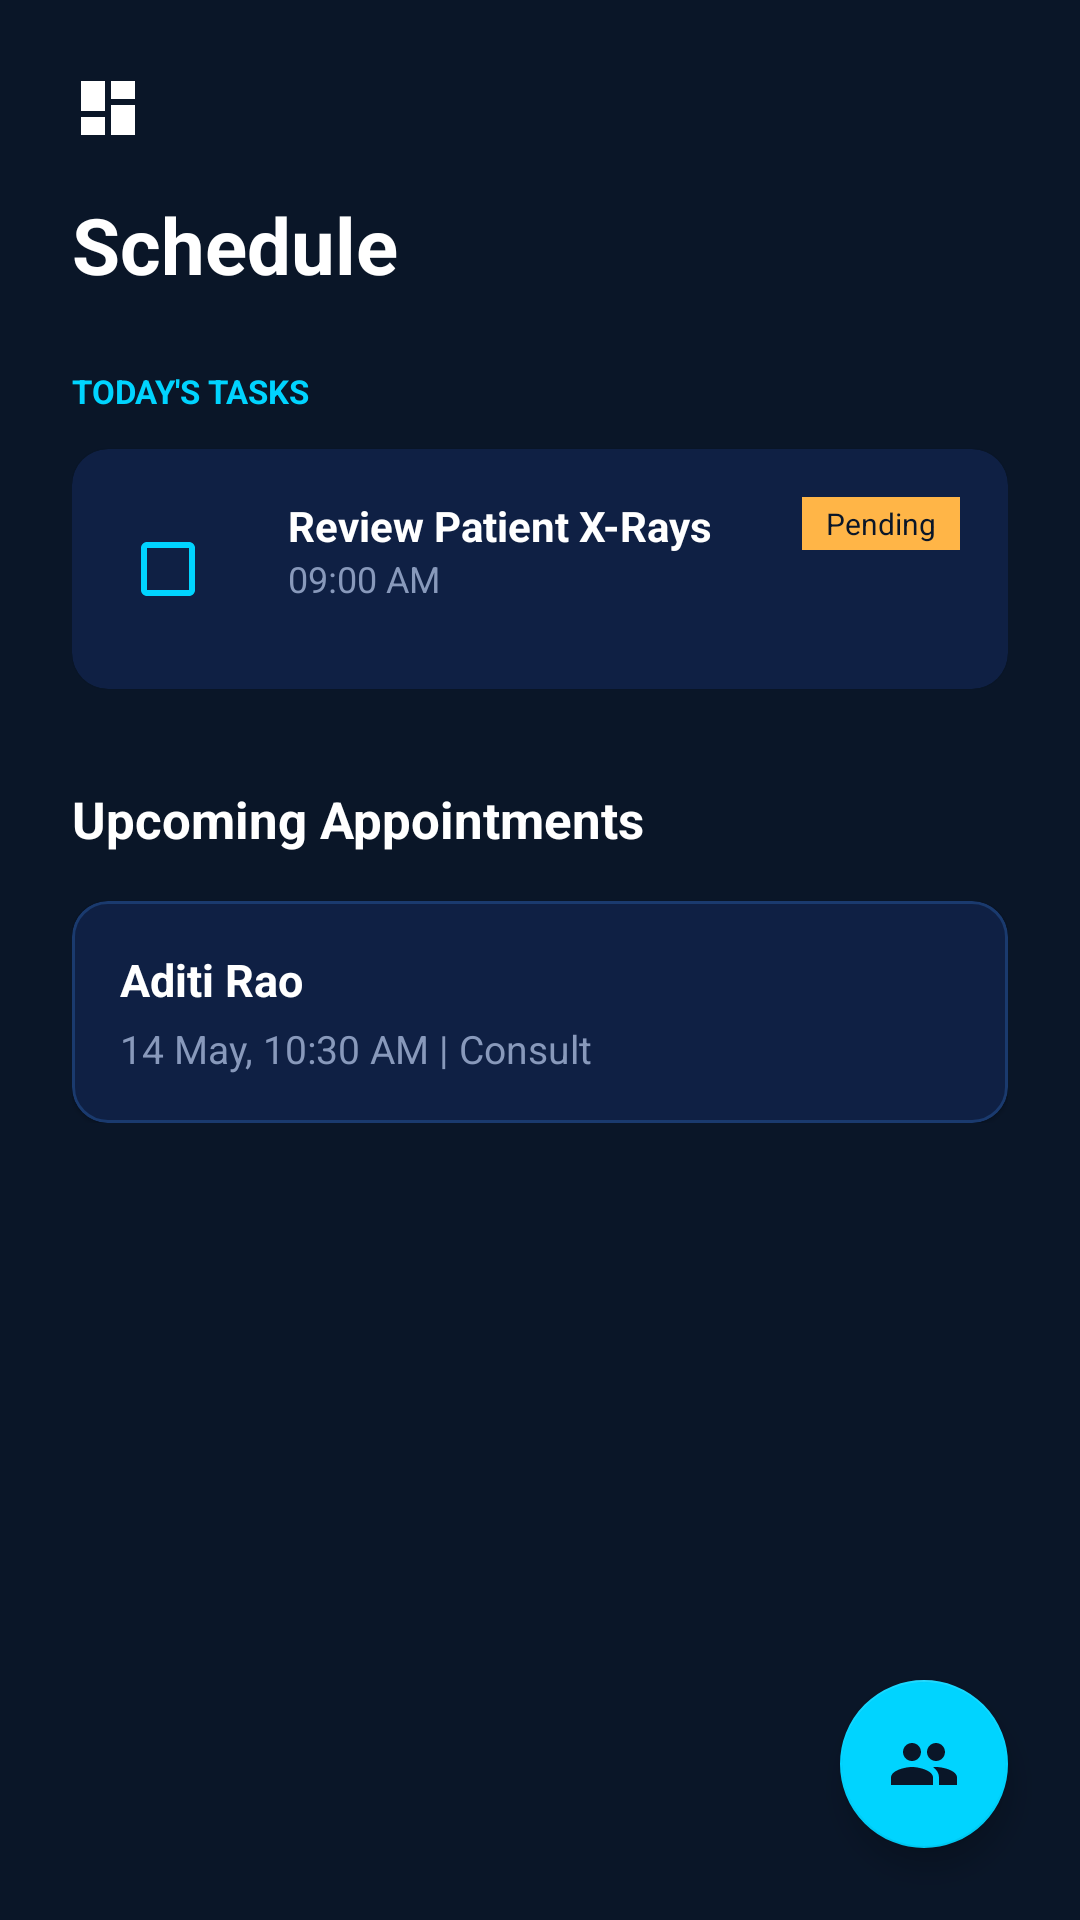

Icon click points for this 1080×1920 phone screenshot, format (x,y):
dashboard: (108,108)
patients: (924,1764)
